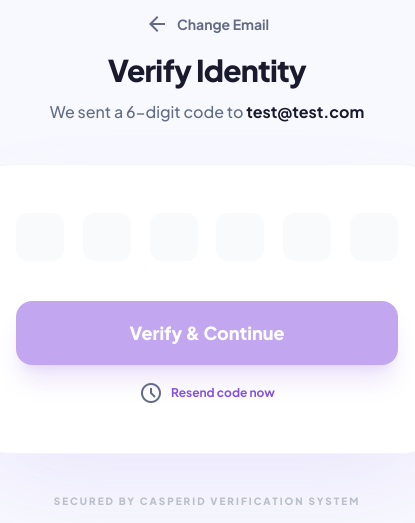
it: OTPVerify › resends OTP and resets timer
Click the button "Resend code now" at (223, 392), box 171,384 -> 275,400
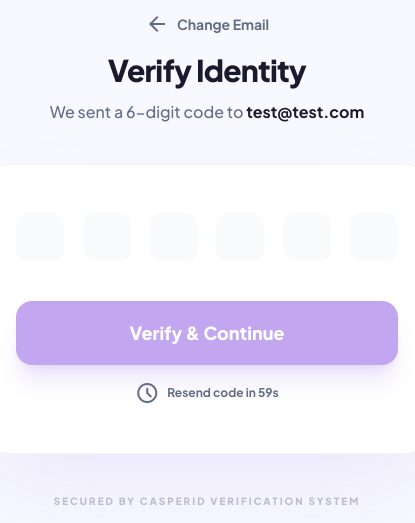
Check: the text "Resend code in 59s" is shown, box 135,378 -> 279,406
